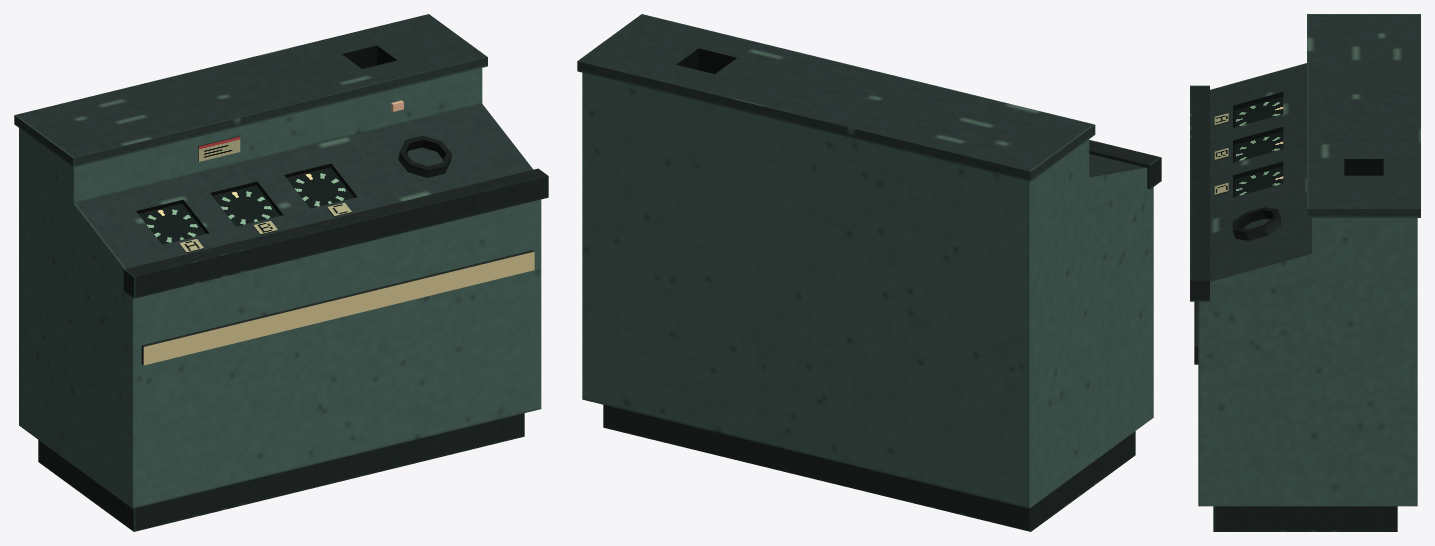
The model's file is SM_LabPanel_Console_Mixer_140x70x110.fbx.
The picture shows the model from 3 angles, left to right: view 1: azimuth 30°, elevation 25°; view 2: azimuth 150°, elevation 25°; view 3: azimuth 270°, elevation 25°; orthographic projection. The views are drawn at different scales.
Visible parts, largest first — view 1: SM_LabPanel_Console_Mixer_140x70x110.001; view 2: SM_LabPanel_Console_Mixer_140x70x110.001; view 3: SM_LabPanel_Console_Mixer_140x70x110.001.
Part boxes in pixels (x1,y1,x2,y2): SM_LabPanel_Console_Mixer_140x70x110.001: (14, 14, 548, 531); SM_LabPanel_Console_Mixer_140x70x110.001: (577, 14, 1161, 531); SM_LabPanel_Console_Mixer_140x70x110.001: (1190, 14, 1420, 531).
Size of the model in its own units: 1.4 by 1.1 by 0.7.
